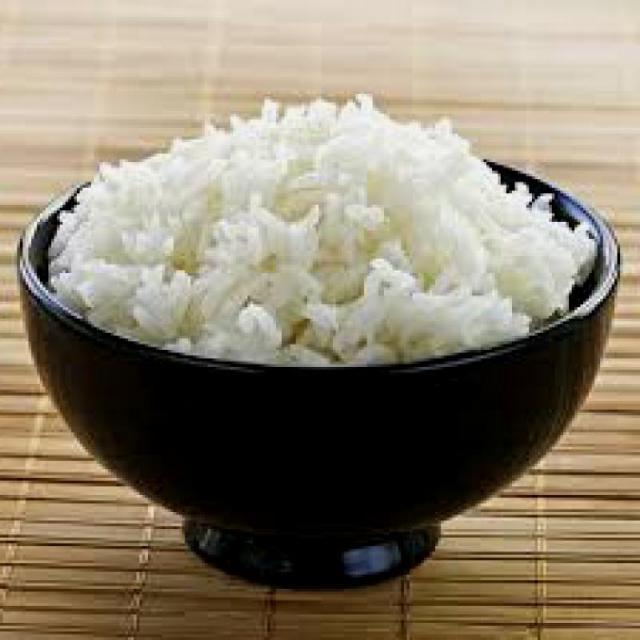Chicken -Chicken Inasal-: (52, 100, 603, 361)
